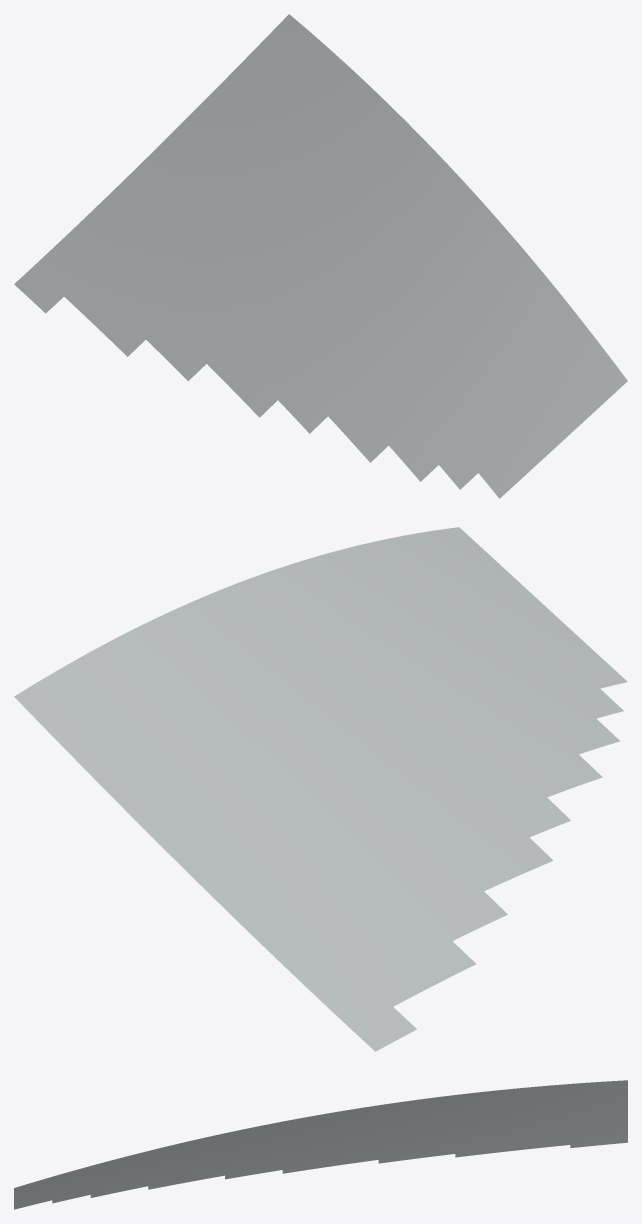
Rendered from alpine-5-7.glb.
3 views of the same model, one above another, from view 1: azimuth 30°, elevation 25°; view 2: azimuth 150°, elevation 25°; view 3: azimuth 270°, elevation 25° (orthographic). The views are drawn at different scales.
Visible parts, largest first — view 1: alpine-5-7; view 2: alpine-5-7; view 3: alpine-5-7.
Boxes of the visible parts, left/top/right/bottom form: alpine-5-7: left=14, top=14, right=627, bottom=498; alpine-5-7: left=14, top=527, right=627, bottom=1051; alpine-5-7: left=14, top=1080, right=627, bottom=1209.
Size of the model in its own units: 120 by 87.83 by 256.
Materials: 1 (1 with a texture image).
